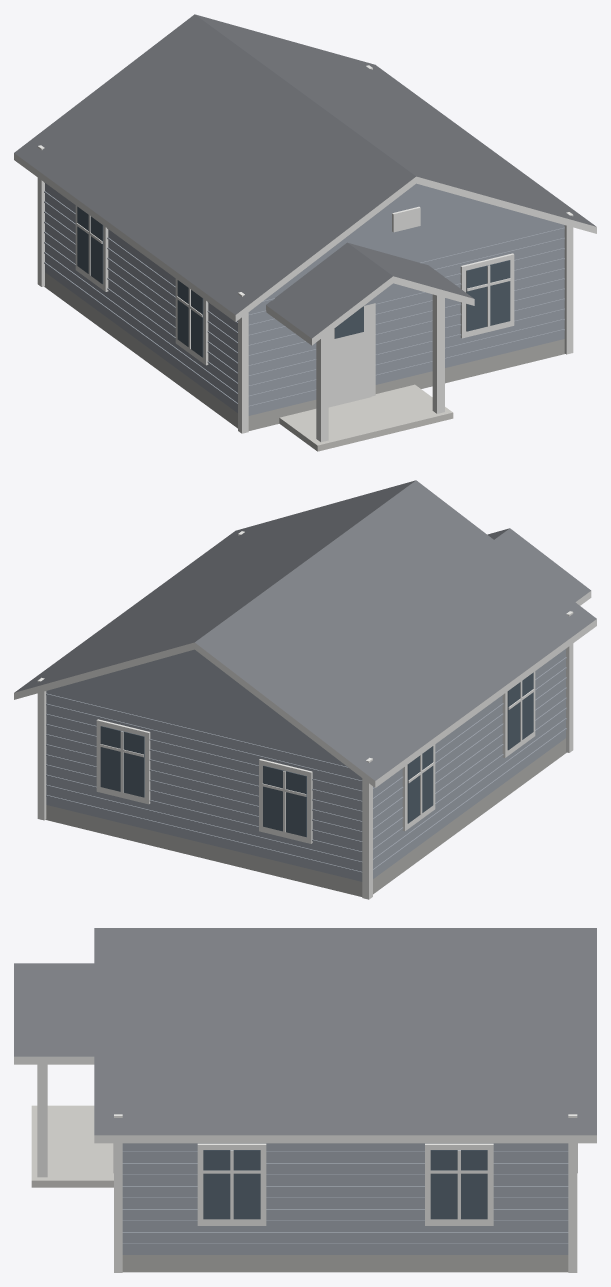
Rendered from escalon-cottage.glb.
3 views of the same model, one above another, from view 1: azimuth 30°, elevation 25°; view 2: azimuth 150°, elevation 25°; view 3: azimuth 270°, elevation 25° (orthographic). The views are drawn at different scales.
Parts seen in each view (by area): view 1: The Escalon (cottage); view 2: The Escalon (cottage); view 3: The Escalon (cottage).
Boxes of the visible parts, box(x1,y1,x2,y2) form: The Escalon (cottage): box(14, 14, 596, 451); The Escalon (cottage): box(14, 480, 596, 899); The Escalon (cottage): box(14, 928, 596, 1272).
Size of the model in its own units: 7.47 by 4.43 by 9.19.
